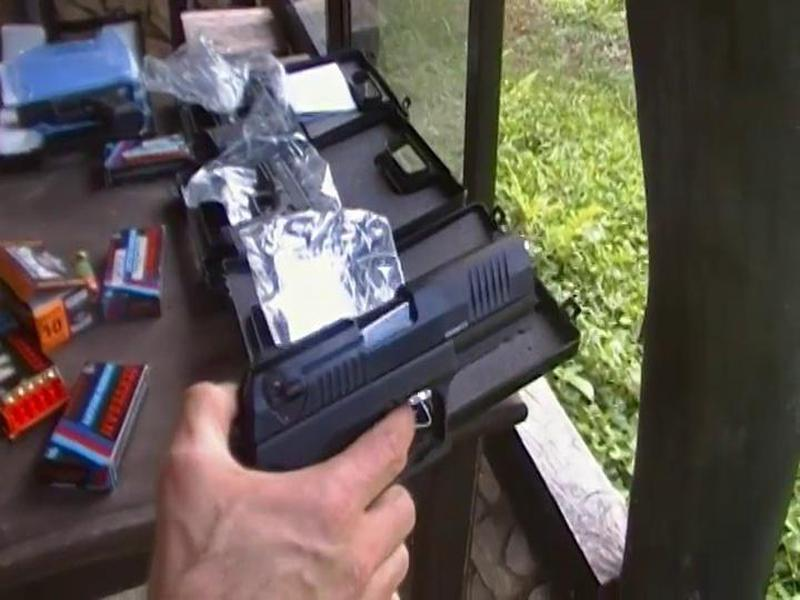Pistola: (203, 216, 566, 495)
